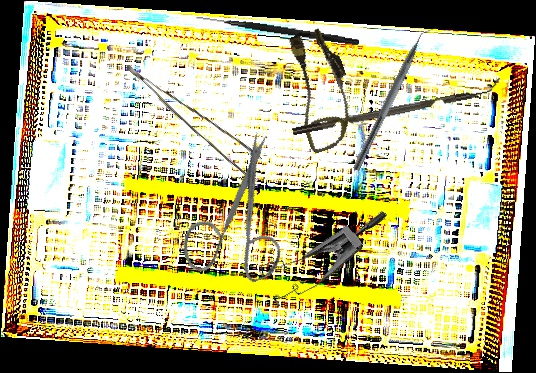Cannula: (274, 24, 368, 155)
Chopper: (352, 20, 439, 176), (290, 77, 503, 136)
Hook Surgical: (195, 14, 360, 46)
Iris Scissors: (151, 129, 319, 304)
Speculum: (247, 172, 390, 325)
Tissue Forceps: (126, 45, 262, 181)
